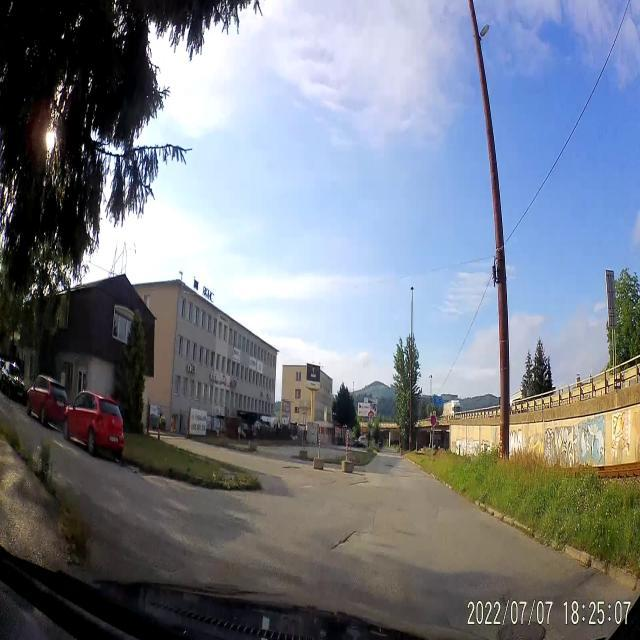Manhole: (492, 610, 549, 640)
Pothole: (330, 519, 360, 557), (385, 462, 394, 469)
